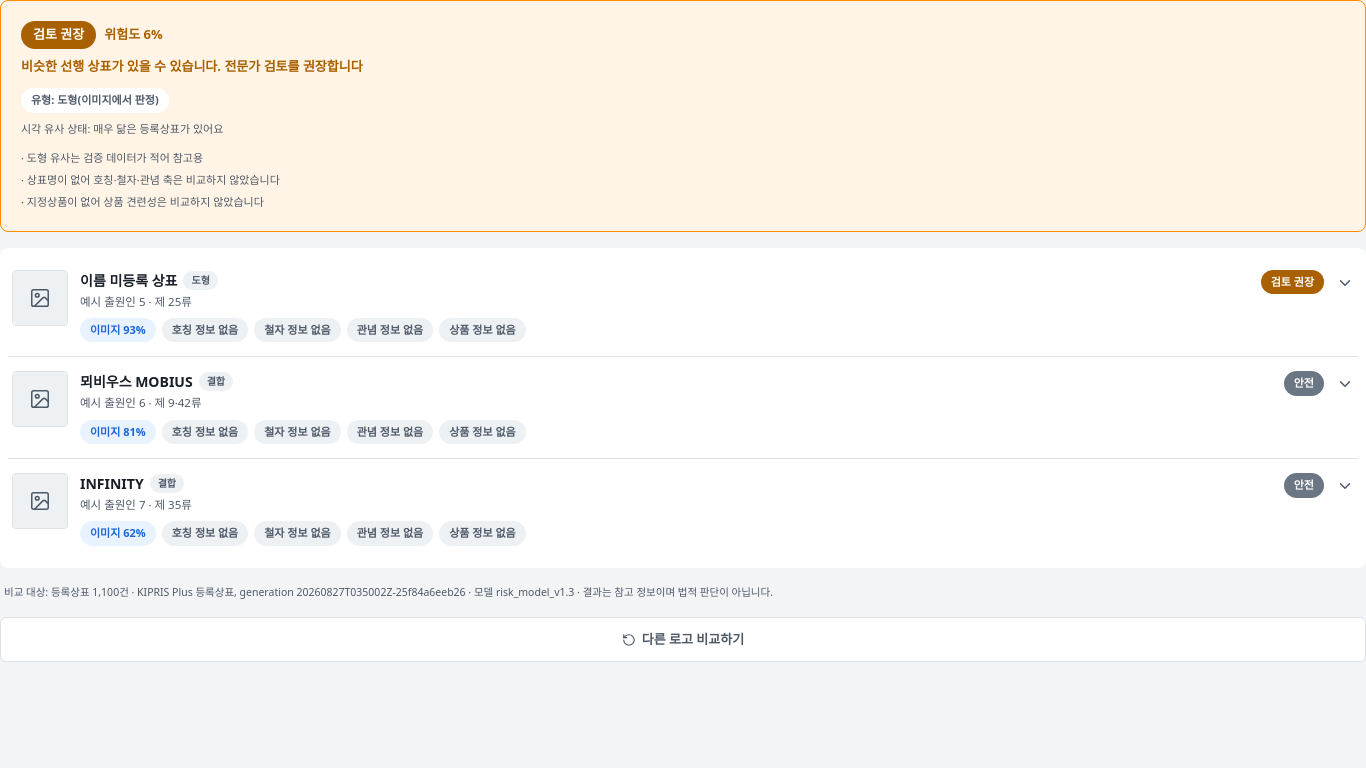
ResultViewV2 — 도형상표(§3-2) › 도형 참고 배지·시각 상태·단독 규칙 문구를 보여준다
Expected: the text "도형 유사는 검증 데이터가 적어 참고용" is shown, [27, 150, 203, 165]
Expected: the text "시각 유사 상태: 매우 닮은 등록상표가 있어요" is shown, [21, 120, 223, 136]
What coordinates should you click on to do the following:
click the button "이름 미등록 상표"
I would click on:
 (40, 298)
Its box is [8, 256, 1358, 356].
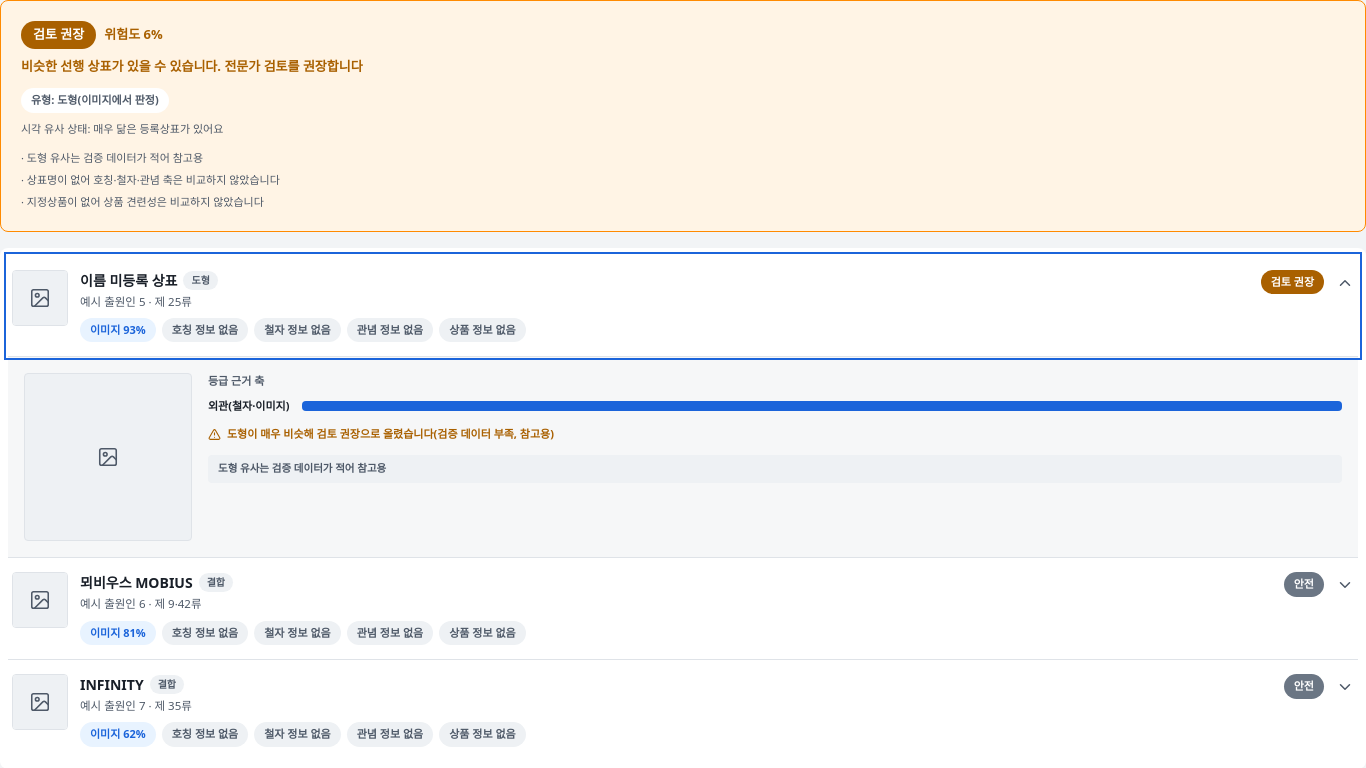
Expected: the list item "도형이 매우 비슷해 검토 권장으로 올렸습니다(검증 데이터 부족, 참고용)" is shown, [208, 426, 554, 441]
